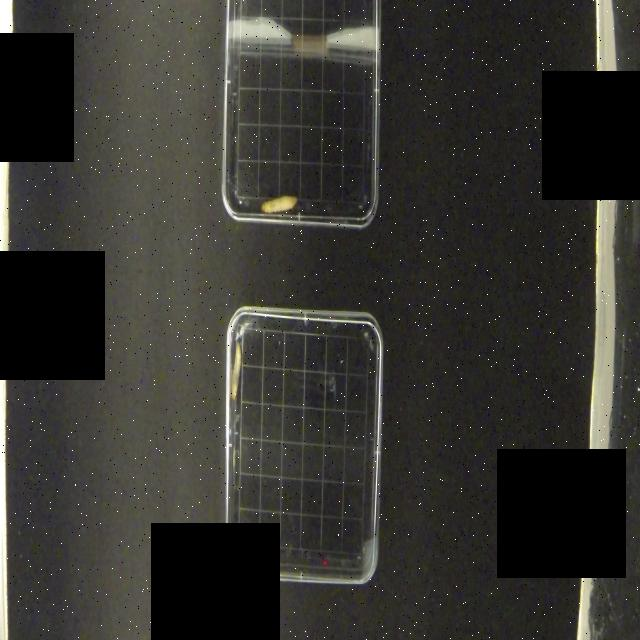larva: (230, 343, 243, 405), (260, 194, 298, 214)
